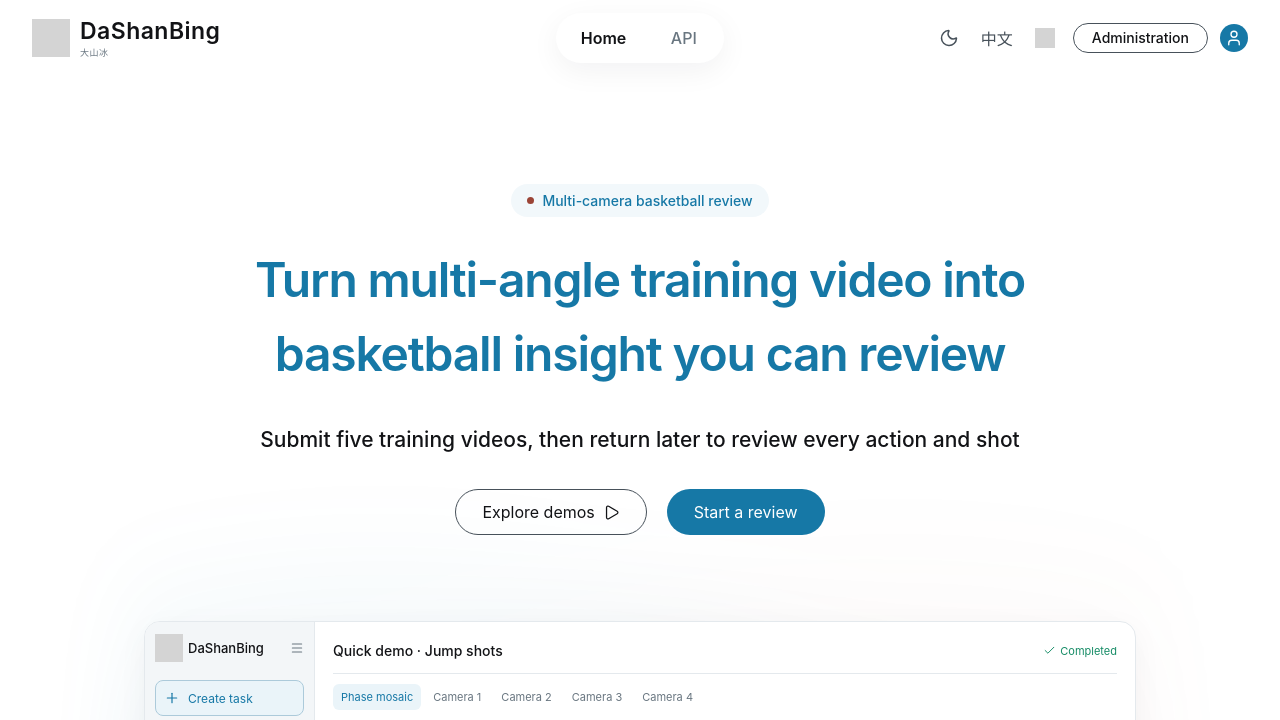
Test: admin header account exposes only its role destination and logout works
Click the button named "Account：operator": [1234, 38] box top-left (1220, 24), bottom-right (1248, 52)
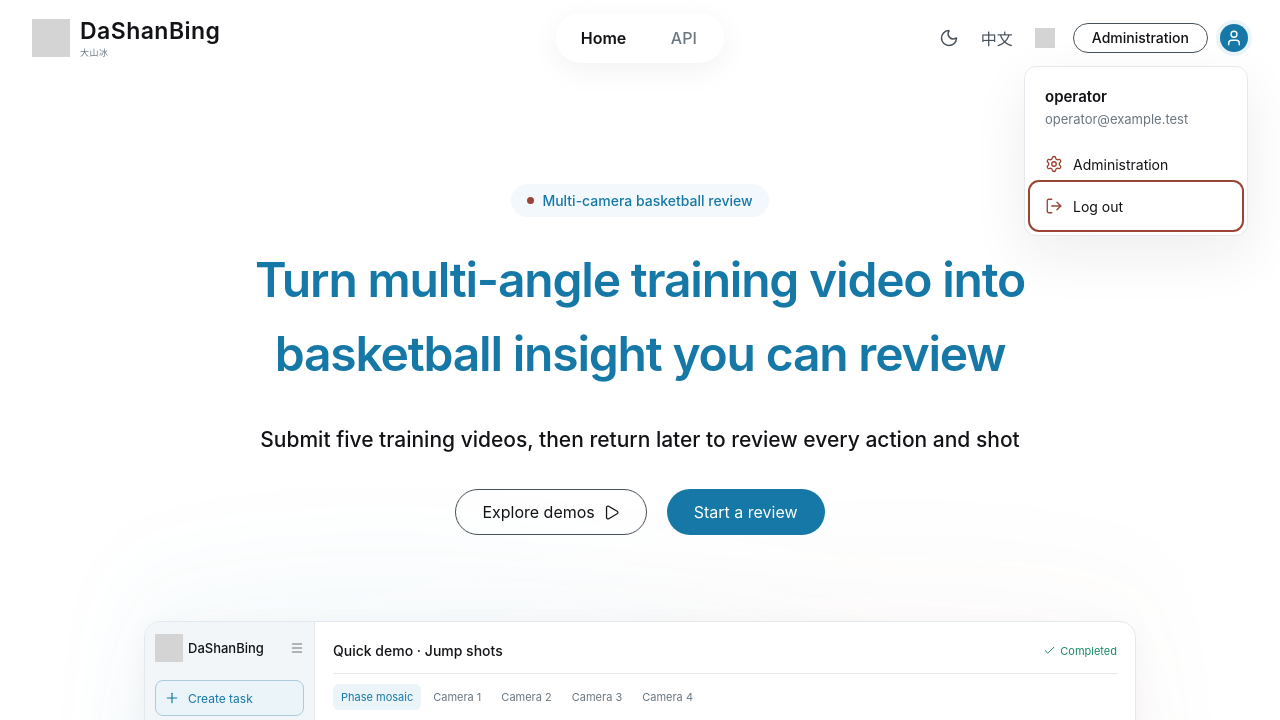
Click the button "Log out": [1136, 206] box top-left (1033, 185), bottom-right (1239, 227)
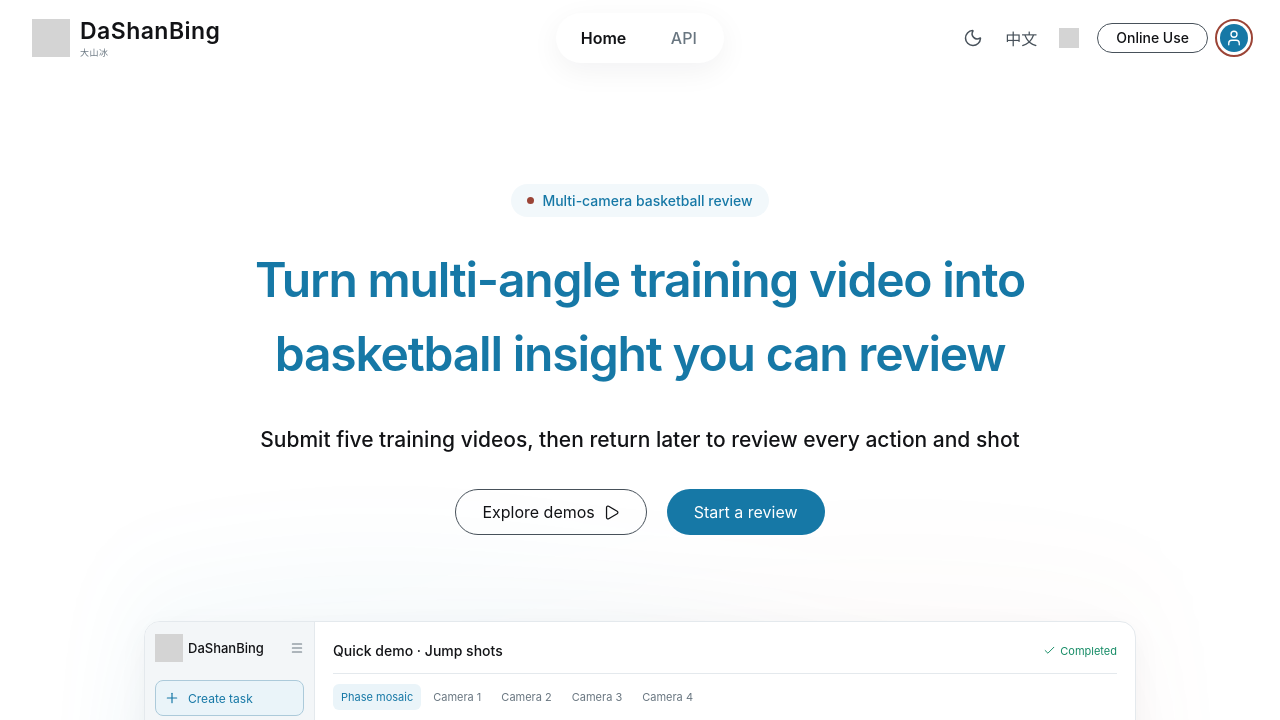
Check: the link named "Log in" is shown, box top-left (1220, 24), bottom-right (1248, 52)
